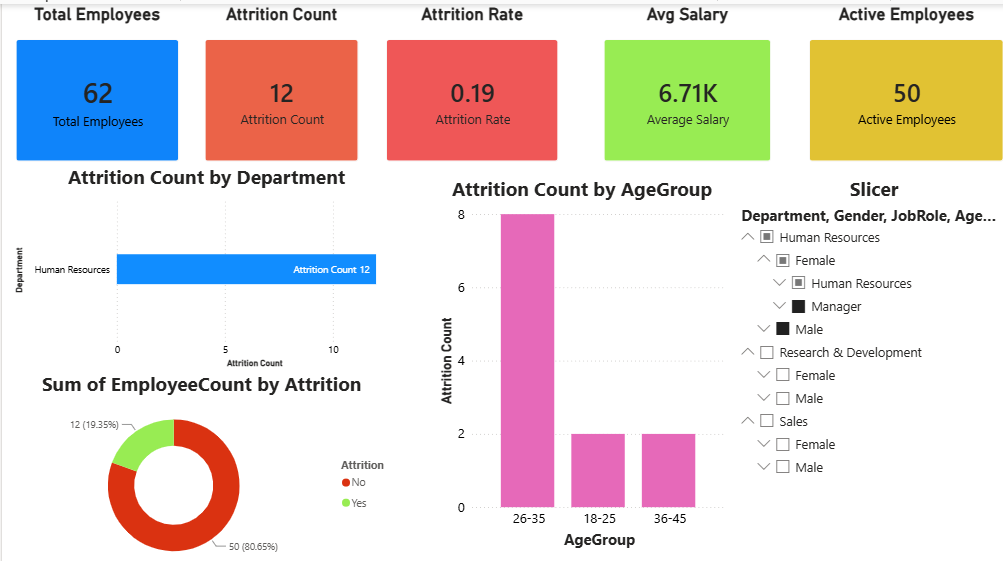

The dashboard page shown, as its layout file describes it:
{"tool":"powerbi","page":{"name":"HR Analytics Dashboard1","canvas":[1280,720],"ordinal":0},"visuals":[{"type":"cardVisual","title":"Total Employees","fields":{"Data":["HR_Analytics.Total Employees"]},"box":[0,0,240,215.4],"z":0},{"type":"cardVisual","title":"Attrition Count","fields":{"Data":["HR_Analytics.Attrition Count"]},"box":[239,0,228.5,215.9],"z":1000},{"type":"cardVisual","title":"Active Employees","fields":{"Data":["HR_Analytics.Active Employees"]},"box":[999.7,0,279.7,215.4],"z":2000},{"type":"cardVisual","title":"Attrition Rate","fields":{"Data":["HR_Analytics.Attrition Rate"]},"box":[466.8,0,251.3,215.4],"z":3000},{"type":"cardVisual","title":"Avg Salary","fields":{"Data":["HR_Analytics.Average Salary"]},"box":[740.8,0,245.7,215.4],"z":4000},{"type":"clusteredBarChart","fields":{"Category":["HR_Analytics.Department"],"Y":["HR_Analytics.Attrition Count"]},"box":[10.5,201.2,492.6,262],"z":5000},{"type":"columnChart","fields":{"Category":["HR_Analytics.AgeGroup"],"Y":["HR_Analytics.Attrition Count"]},"box":[545,215.9,373.1,475.8],"z":6000},{"type":"donutChart","fields":{"Category":["HR_Analytics.Attrition"],"Y":["Sum(HR_Analytics.EmployeeCount)"]},"box":[0,461.1,503.1,257.8],"z":7000},{"type":"slicer","title":"Slicer","fields":{"Values":["HR_Analytics.Department","HR_Analytics.Gender","HR_Analytics.JobRole","HR_Analytics.AgeGroup","HR_Analytics.Attrition","HR_Analytics.SalarySlab"]},"box":[918.1,215.9,360.5,503.1],"z":8000}]}

Visuals, with their boxes in screenshot pixels (x1, y1, x2, y2), scaled from the page's 1280x720 canvas onto the 1003x561 screenshot:
"Total Employees" cardVisual: {"x1": 0, "y1": 0, "x2": 188, "y2": 168}
"Attrition Count" cardVisual: {"x1": 187, "y1": 0, "x2": 366, "y2": 168}
"Active Employees" cardVisual: {"x1": 783, "y1": 0, "x2": 1002, "y2": 168}
"Attrition Rate" cardVisual: {"x1": 366, "y1": 0, "x2": 563, "y2": 168}
"Avg Salary" cardVisual: {"x1": 580, "y1": 0, "x2": 773, "y2": 168}
clusteredBarChart - HR_Analytics.Department x HR_Analytics.Attrition Count: {"x1": 8, "y1": 157, "x2": 394, "y2": 361}
columnChart - HR_Analytics.AgeGroup x HR_Analytics.Attrition Count: {"x1": 427, "y1": 168, "x2": 719, "y2": 539}
donutChart - HR_Analytics.Attrition x Sum(HR_Analytics.EmployeeCount): {"x1": 0, "y1": 359, "x2": 394, "y2": 560}
"Slicer" slicer: {"x1": 719, "y1": 168, "x2": 1002, "y2": 560}
